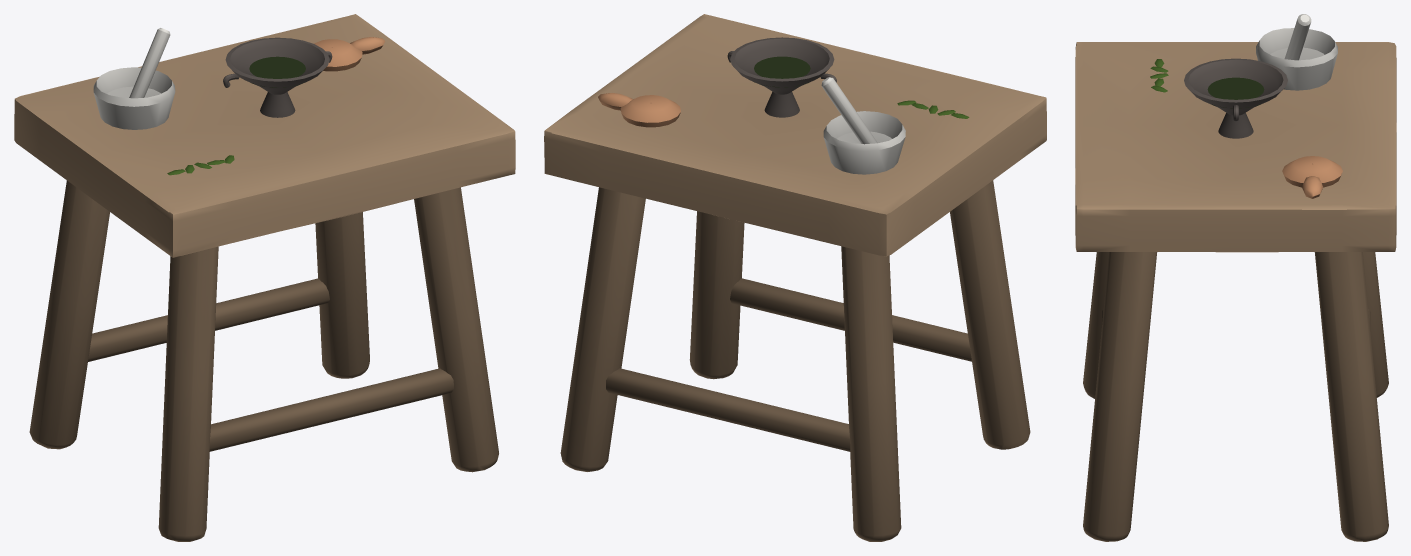
Rendered from obj_kit_cuptable.glb.
The picture shows the model from 3 angles, left to right: view 1: azimuth 30°, elevation 25°; view 2: azimuth 150°, elevation 25°; view 3: azimuth 270°, elevation 25°; orthographic projection.
Visible parts, largest first — view 1: Cube, Cylinder, Cylinder.002, Cylinder.001, Cylinder.003, Cube.001, Cube.002, kylix, mortar, Cylinder.005, Cylinder.004, lamp; view 2: Cube, Cylinder.001, Cylinder.003, Cylinder, Cylinder.002, Cube.002, Cube.001, kylix, mortar, lamp, Cylinder.005, Cylinder.004; view 3: Cube, Cylinder.002, Cylinder.003, kylix, mortar, Cylinder, Cylinder.001, lamp, Cylinder.004, Cylinder.005.
Boxes of the visible parts, x1,y1,x2,y2 form: Cube: (14,14,515,257); Cylinder: (158,246,218,541); Cylinder.002: (414,187,498,472); Cylinder.001: (29,180,109,449); Cylinder.003: (315,212,369,378); Cube.001: (209,368,453,451); Cube.002: (88,278,329,361); kylix: (225,37,329,117); mortar: (93,67,175,129); Cylinder.005: (129,28,170,98); Cylinder.004: (249,56,305,87); lamp: (314,39,362,71); Cube: (544,14,1046,256); Cylinder.001: (841,246,901,541); Cylinder.003: (560,187,645,471); Cylinder: (950,180,1030,449); Cylinder.002: (689,211,744,379); Cube.002: (606,368,850,451); Cube.001: (730,278,971,361); kylix: (730,37,834,117); mortar: (823,111,905,174); lamp: (620,95,680,127); Cylinder.005: (821,77,877,144); Cylinder.004: (754,56,810,87); Cube: (1075,42,1396,252); Cylinder.002: (1083,252,1157,541); Cylinder.003: (1314,252,1388,541); kylix: (1184,58,1287,138); mortar: (1256,28,1337,90); Cylinder: (1083,252,1108,398); Cylinder.001: (1363,252,1388,397); lamp: (1282,156,1342,187); Cylinder.004: (1207,77,1264,108); Cylinder.005: (1284,14,1311,60).
Bounding box in the file's own units: 0.5199 × 0.6038 × 0.4199.
